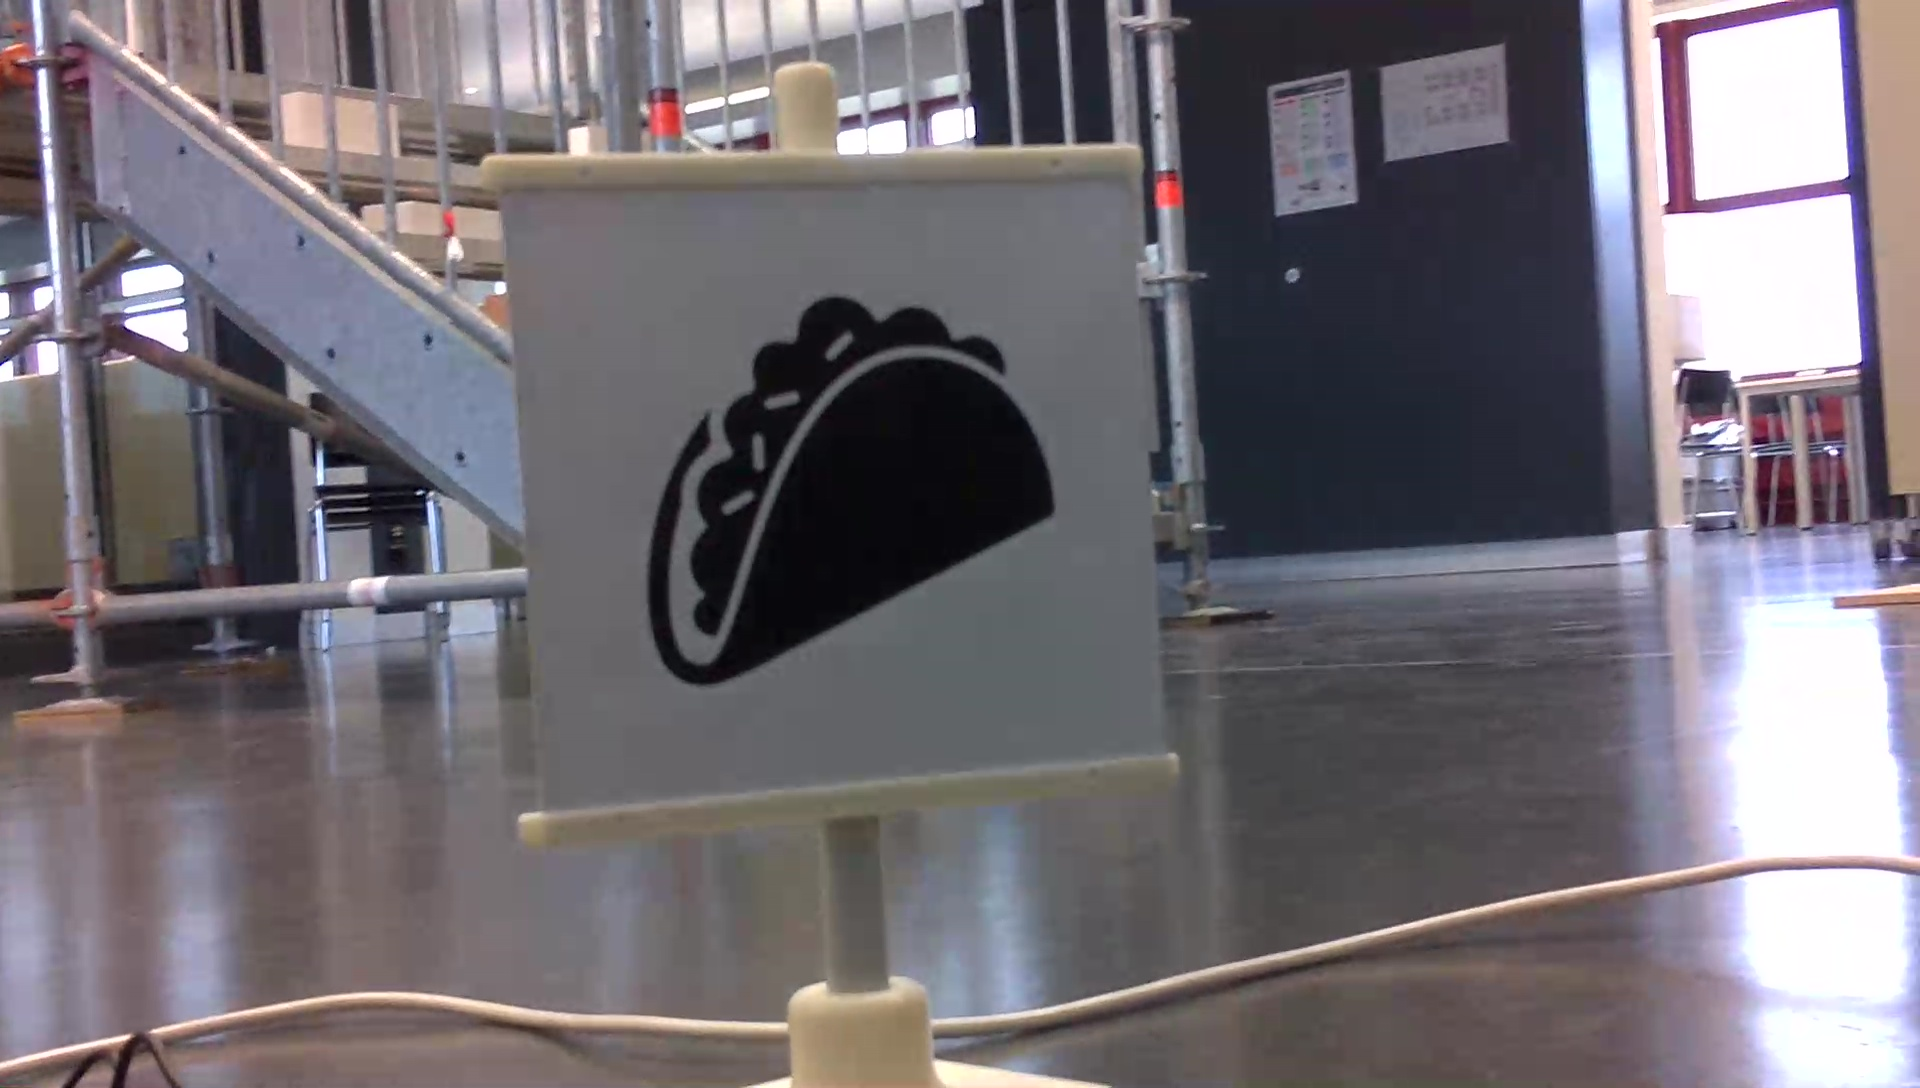taco: (636, 287, 1069, 695)
